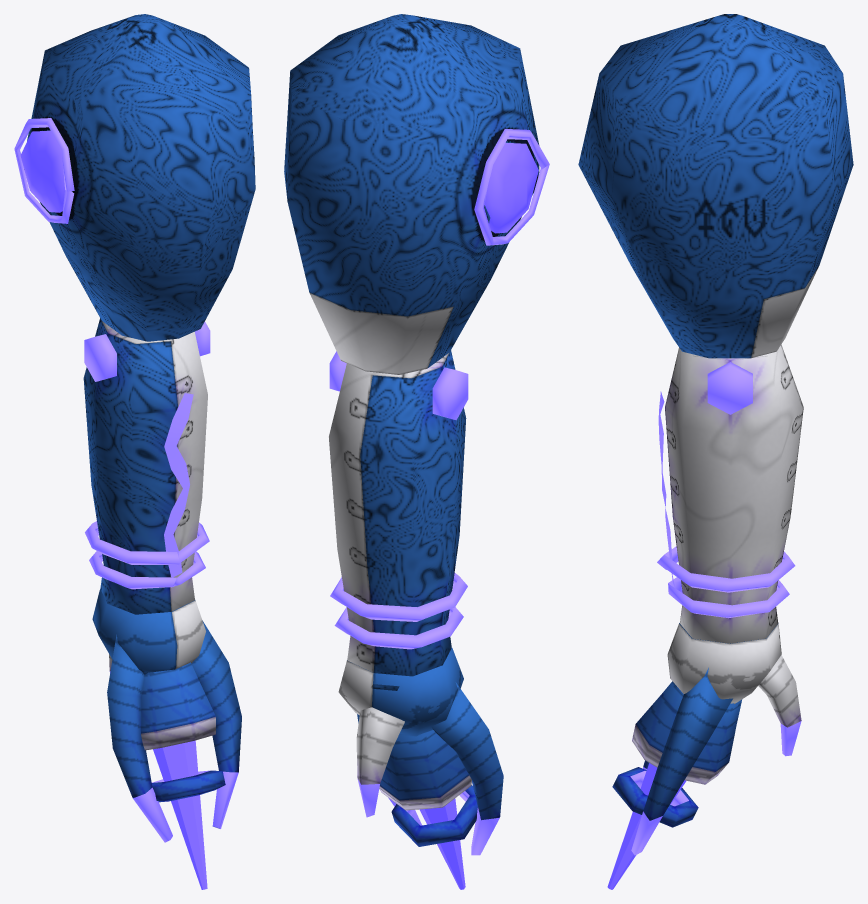
The model's file is LeftPlasmaCutterArmZ.glb.
3 views of the same model, side by side, from view 1: azimuth 30°, elevation 25°; view 2: azimuth 150°, elevation 25°; view 3: azimuth 270°, elevation 25° (orthographic). The views are drawn at different scales.
Parts seen in each view (by area): view 1: LeftPlasmaCutterArmZ_Upper, LeftPlasmaCutterArmZ_Fore, LeftPlasmaCutterArmZ_Fist; view 2: LeftPlasmaCutterArmZ_Upper, LeftPlasmaCutterArmZ_Fore, LeftPlasmaCutterArmZ_Fist; view 3: LeftPlasmaCutterArmZ_Upper, LeftPlasmaCutterArmZ_Fore, LeftPlasmaCutterArmZ_Fist.
Part boxes in pixels (x1=…): LeftPlasmaCutterArmZ_Upper: x1=14, y1=14, x2=255, y2=341; LeftPlasmaCutterArmZ_Fore: x1=83, y1=318, x2=210, y2=614; LeftPlasmaCutterArmZ_Fist: x1=92, y1=589, x2=241, y2=889; LeftPlasmaCutterArmZ_Upper: x1=284, y1=14, x2=549, y2=374; LeftPlasmaCutterArmZ_Fore: x1=329, y1=350, x2=468, y2=690; LeftPlasmaCutterArmZ_Fist: x1=338, y1=648, x2=503, y2=889; LeftPlasmaCutterArmZ_Upper: x1=578, y1=14, x2=853, y2=358; LeftPlasmaCutterArmZ_Fore: x1=657, y1=344, x2=803, y2=643; LeftPlasmaCutterArmZ_Fist: x1=607, y1=623, x2=801, y2=889.
Bounding box in the file's own units: 4.38 × 18.25 × 5.25.
Materials: 5 (3 with a texture image).
